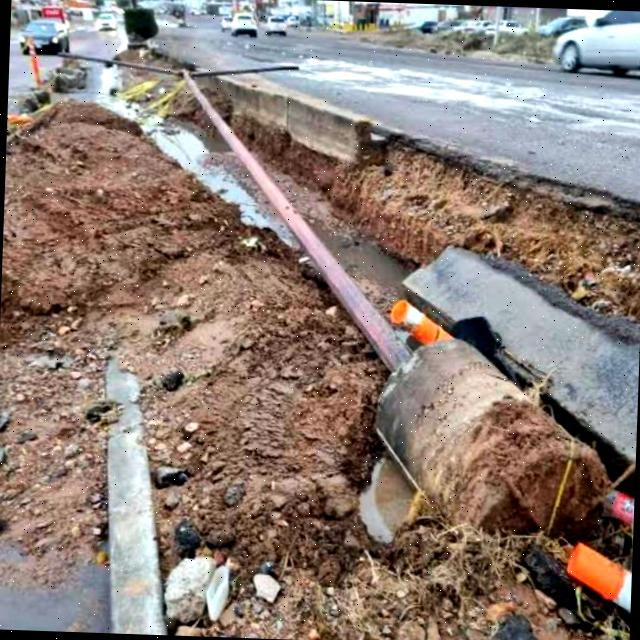Broken Pole: (57, 44, 612, 560)
